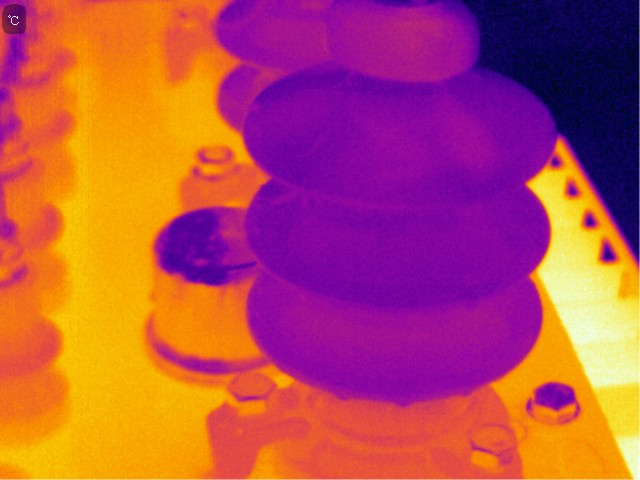Oil: (362, 3, 474, 85), (330, 384, 350, 403), (395, 392, 414, 411)
